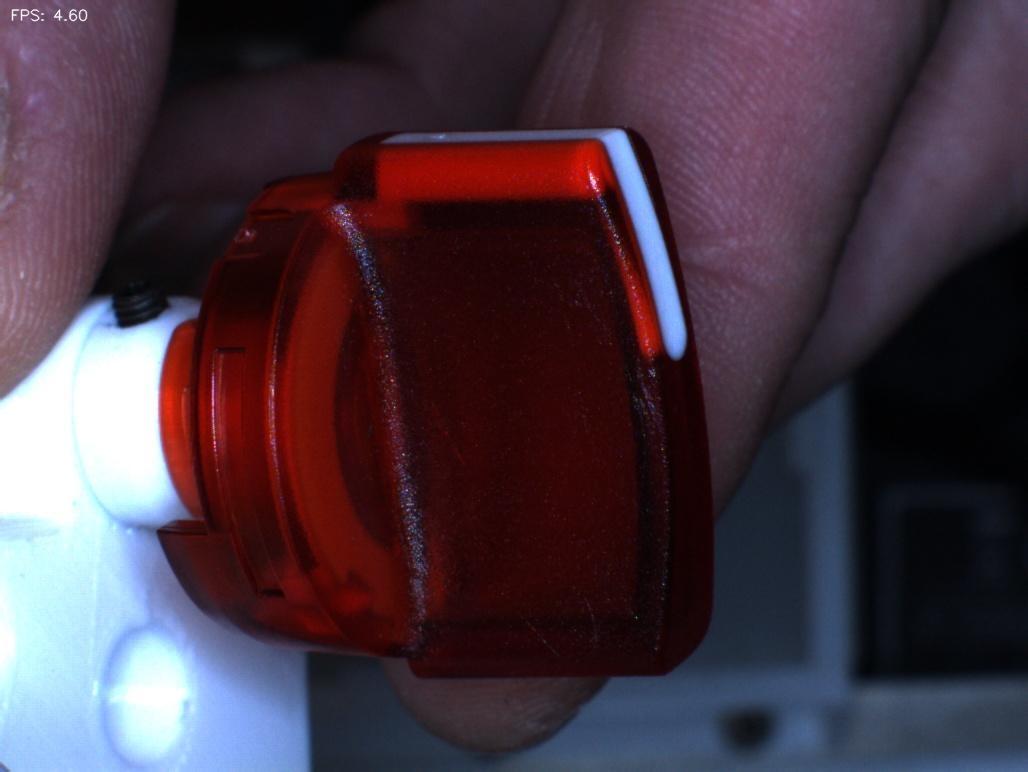Givrage: (563, 294, 663, 496)
